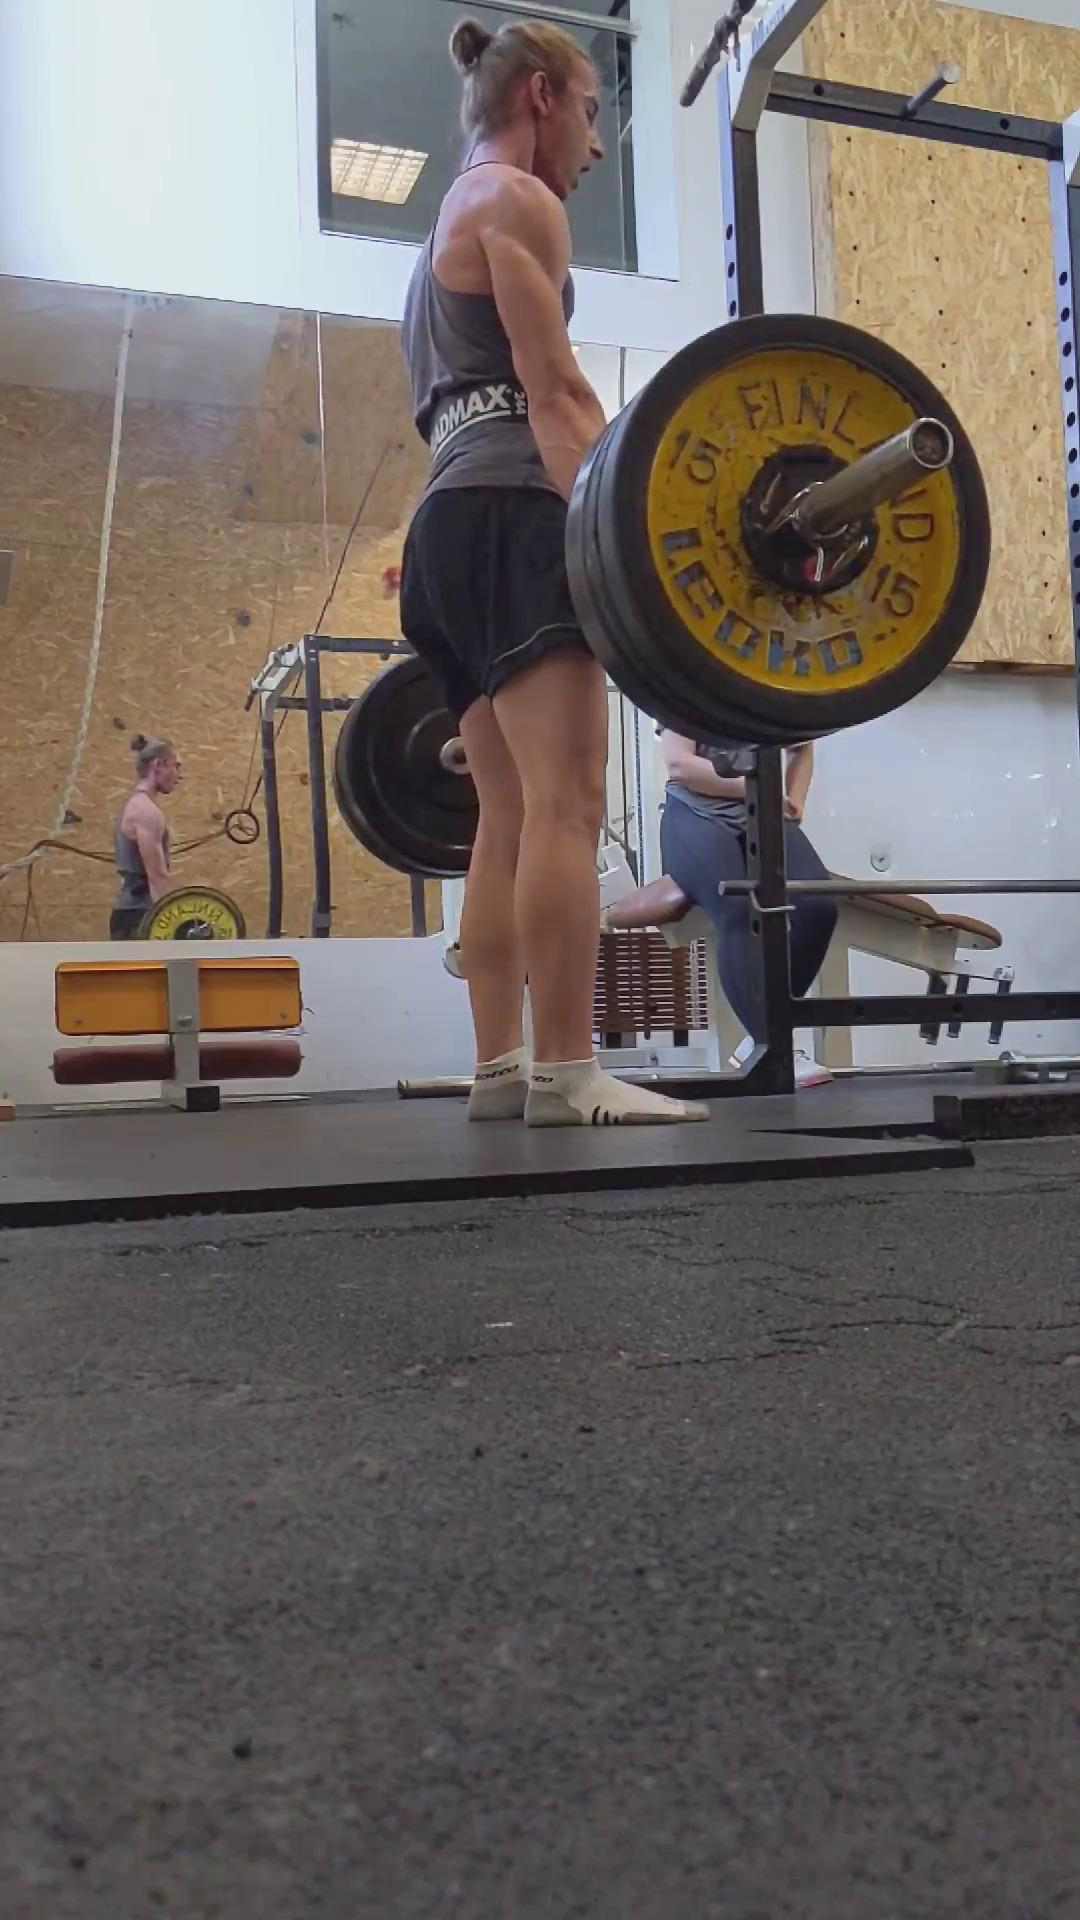barbell: (608, 313, 993, 727), (136, 886, 245, 940)
